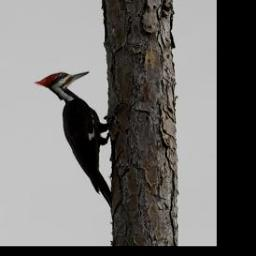Woodpecker: (33, 71, 111, 210)
